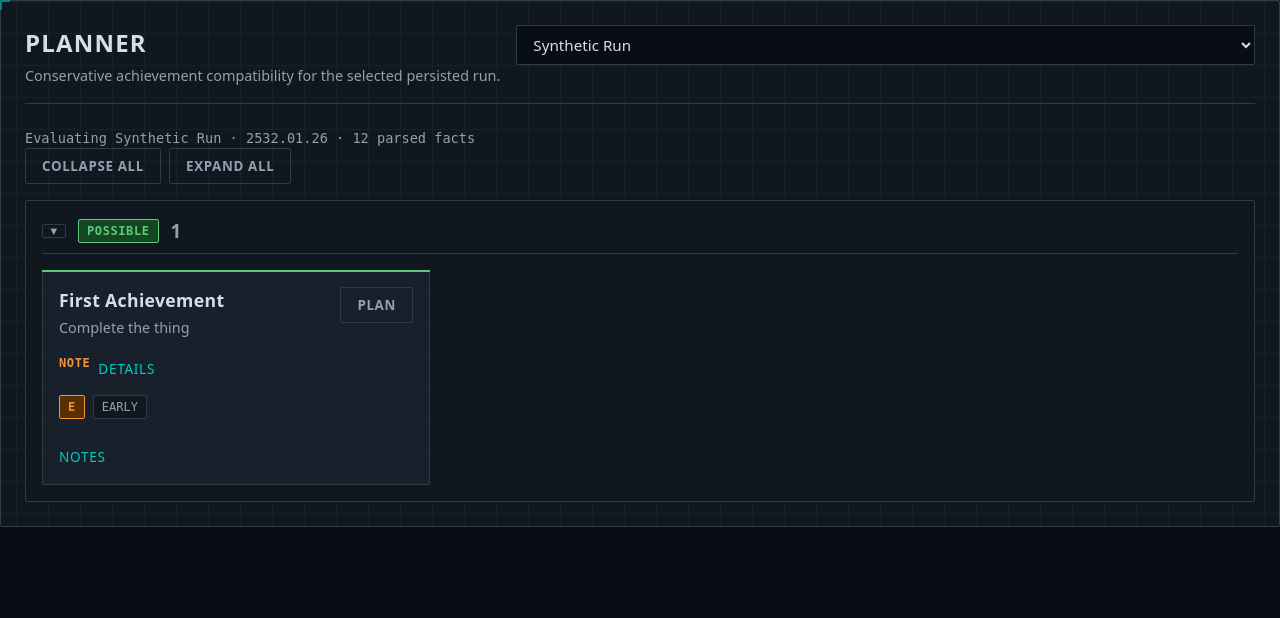
Test: shows advisory details for possible planner achievements with warnings
Expected: the list item "First Achievement" is shown, [59,288,224,312]
Expected: the text "Note" is shown once, [59,354,90,372]
Click the button "Details": (127, 369) [98,359,155,380]
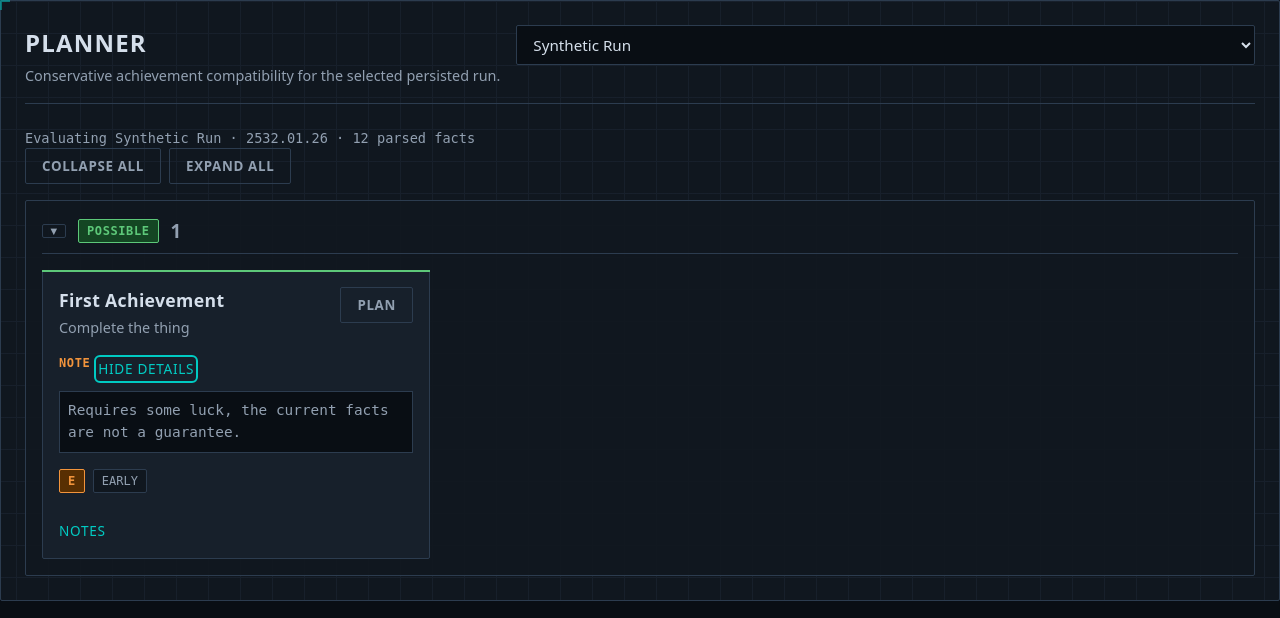
Expected: the text "Requires some luck, the current facts are not a guarantee." is shown, [68,400,404,444]
